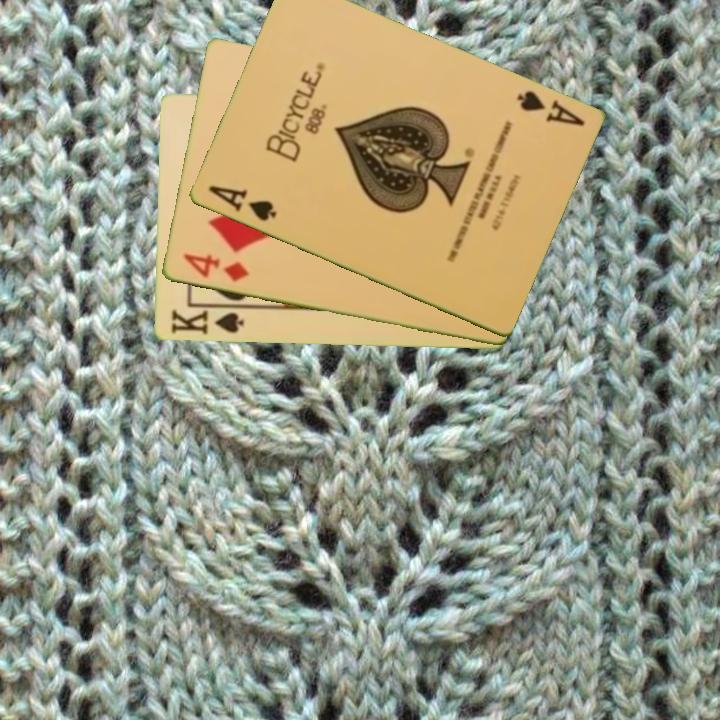4d: (179, 250, 252, 285)
As: (204, 182, 279, 225), (513, 87, 588, 130)
Ks: (167, 306, 246, 338)
